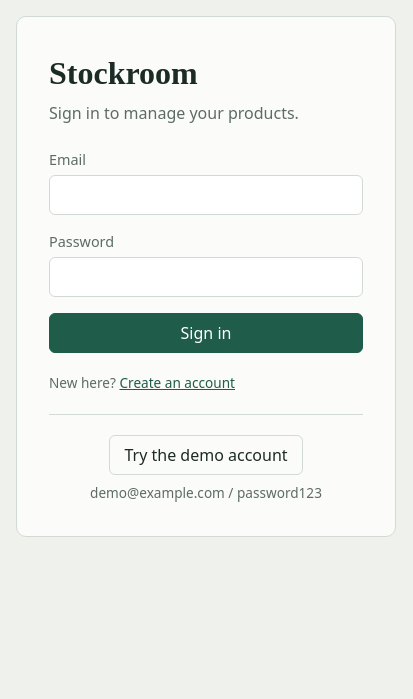
register › blocks an empty confirmation
Click the button "Create an account" at (177, 384), box [120,373,235,394]
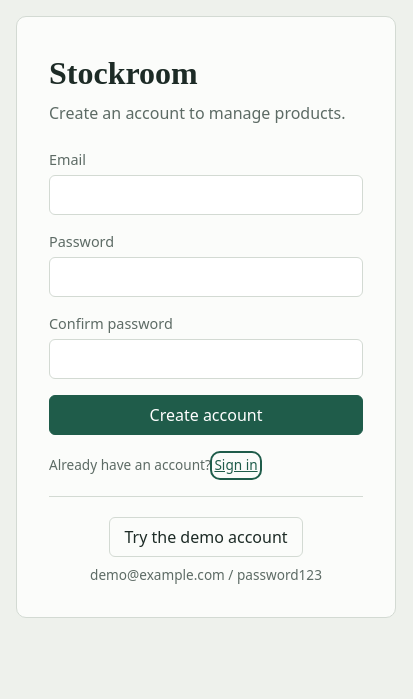
Type "a@b.com" into the field labelled "Email" at (206, 195), box [49,175,363,215]
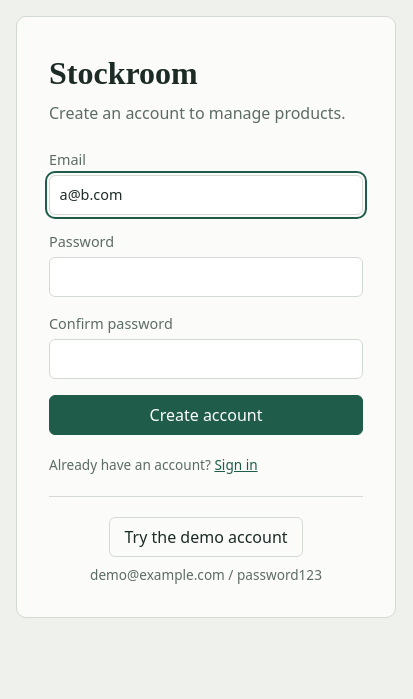
Type "secret12" into the password field labelled "Password" at (206, 277), box [49,257,363,297]
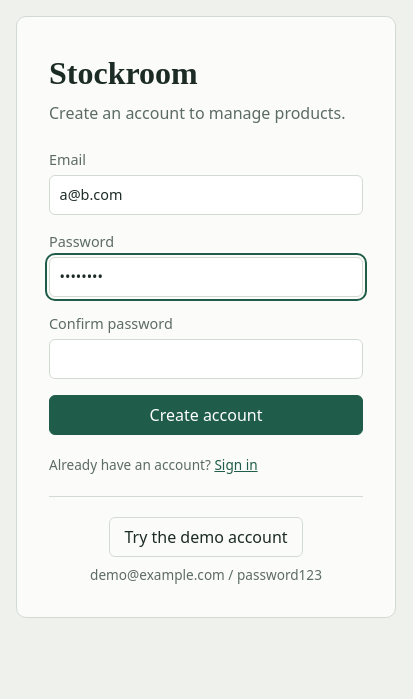
Click the button "Create account" at (206, 415), box [49,395,363,435]
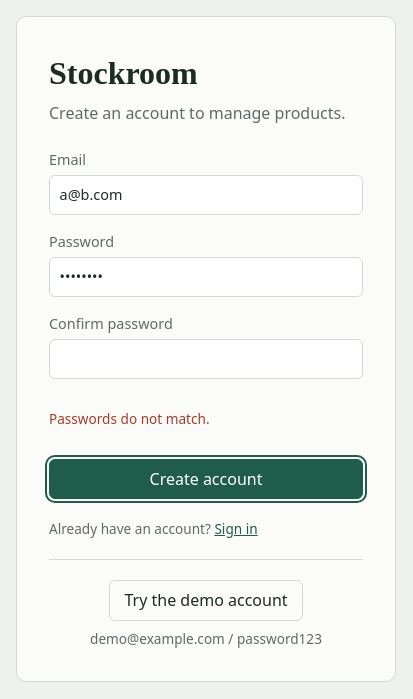
Now the message reads "Passwords do not match.", box [49,408,210,428]
